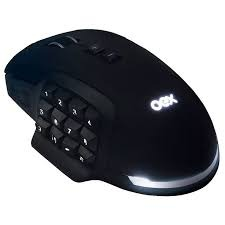mouse: (3, 15, 225, 198)
